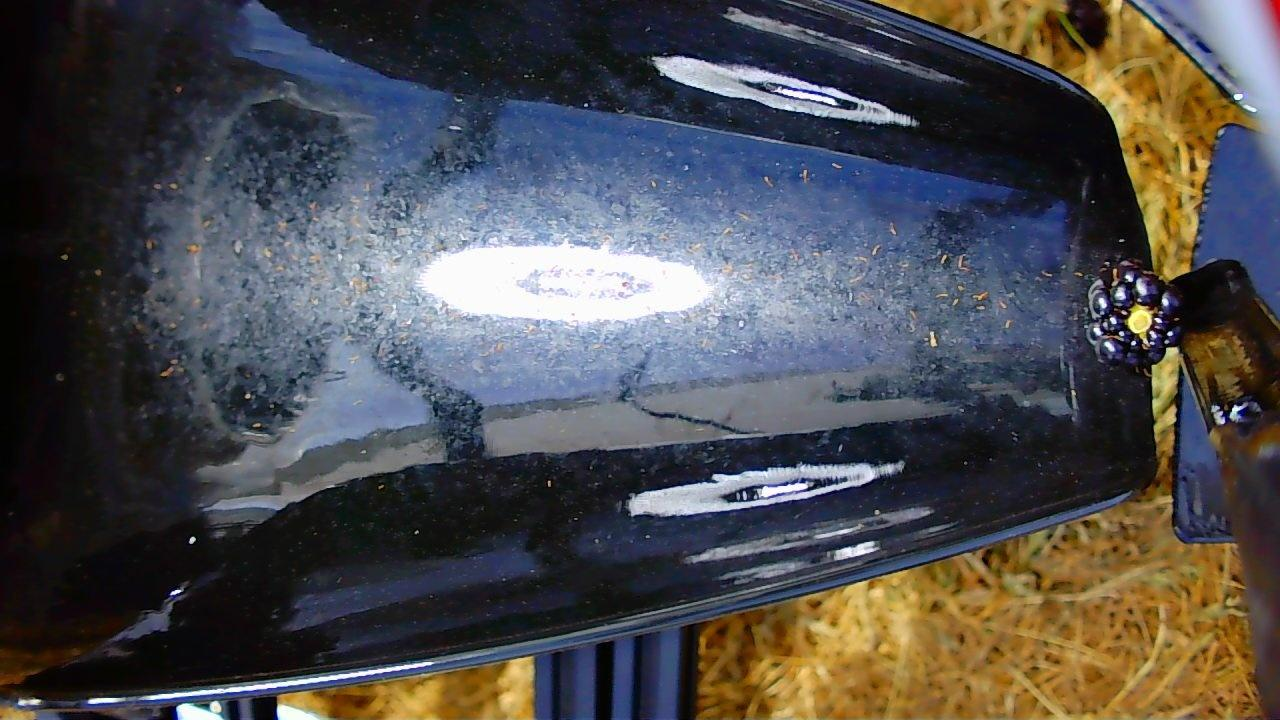berry: (1086, 261, 1181, 368)
